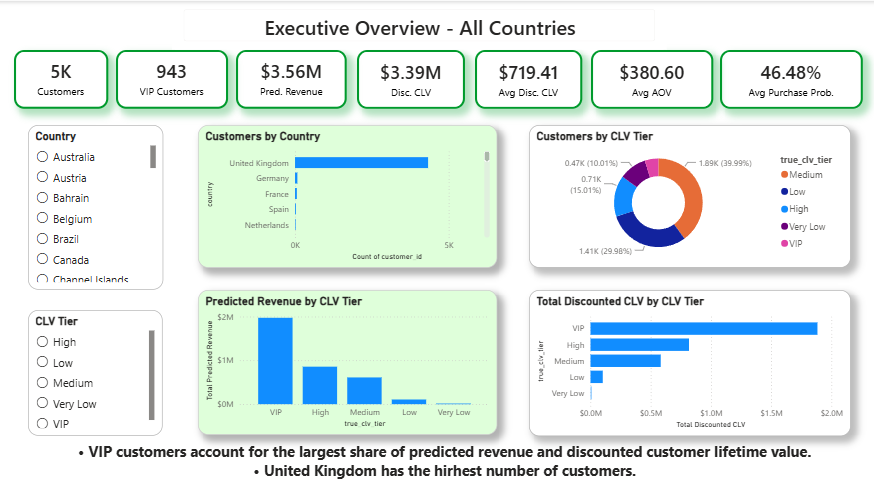

The page's visual inventory and layout, read from the dashboard file:
{"tool":"powerbi","page":{"name":"Executive_Overview","canvas":[1280,720],"ordinal":0},"visuals":[{"type":"cardVisual","fields":{"Data":["powerbi fact_customers.Total Discounted CLV"]},"box":[522.4,71.7,158,86.3],"z":0},{"type":"cardVisual","fields":{"Data":["powerbi fact_customers.Average Discounted CLV"]},"box":[695.1,71.7,156.6,86.3],"z":1000},{"type":"cardVisual","fields":{"Data":["powerbi fact_customers.Average Purchase Probability"]},"box":[1053.4,72.4,208.6,86.2],"z":2000},{"type":"cardVisual","fields":{"Data":["powerbi fact_customers.Average Predicted Order Value"]},"box":[864.9,71.7,178.5,86.3],"z":3000},{"type":"cardVisual","fields":{"Data":["powerbi fact_customers.Total Predicted Revenue"]},"box":[345.4,71.7,162.4,86.3],"z":4000},{"type":"cardVisual","fields":{"Data":["powerbi fact_customers.Total Customers"]},"box":[20.5,71.7,137.6,86.3],"z":5000},{"type":"textbox","box":[72.4,639.7,1141.4,81],"z":6000},{"type":"clusteredBarChart","title":"Total Discounted CLV by CLV Tier","fields":{"Y":["powerbi fact_customers.Total Discounted CLV"],"Category":["powerbi fact_customers.true_clv_tier"]},"box":[774.1,422.4,470.7,213.8],"z":7000},{"type":"clusteredBarChart","title":"Customers by Country","fields":{"Category":["powerbi fact_customers.country"],"Y":["CountNonNull(powerbi fact_customers.customer_id)"]},"box":[289.7,181,437.9,208.6],"z":8000},{"type":"lineClusteredColumnComboChart","title":"Predicted Revenue by CLV Tier","fields":{"Y":["powerbi fact_customers.Total Predicted Revenue"],"Category":["powerbi fact_customers.true_clv_tier"]},"box":[289.7,422.4,437.9,212.1],"z":9000},{"type":"donutChart","title":"Customers by CLV Tier","fields":{"Category":["powerbi fact_customers.true_clv_tier"],"Y":["CountNonNull(powerbi fact_customers.customer_id)"]},"box":[774.1,181,470.7,208.6],"z":10000},{"type":"listSlicer","title":"Country","fields":{"Values":["powerbi fact_customers.country"]},"box":[41.4,181,198.3,241.4],"z":11000},{"type":"listSlicer","title":"CLV Tier","fields":{"Values":["powerbi fact_customers.true_clv_tier"]},"box":[41.4,451.7,196.6,184.5],"z":12000},{"type":"cardVisual","fields":{"Data":["powerbi fact_customers.VIP Customers"]},"box":[169.8,71.7,163.9,86.3],"z":13000},{"type":"cardVisual","fields":{"Data":["Measures (2).Executive Overview Title"]},"box":[251.7,0,724.4,71],"z":14000}]}

Visuals, with their boxes in screenshot pixels (x1, y1, x2, y2), scaled from the page's 1280x720 canvas onto the 874x493 screenshot:
cardVisual - powerbi fact_customers.Total Discounted CLV: 357, 49, 465, 108
cardVisual - powerbi fact_customers.Average Discounted CLV: 475, 49, 582, 108
cardVisual - powerbi fact_customers.Average Purchase Probability: 719, 50, 862, 109
cardVisual - powerbi fact_customers.Average Predicted Order Value: 591, 49, 712, 108
cardVisual - powerbi fact_customers.Total Predicted Revenue: 236, 49, 347, 108
cardVisual - powerbi fact_customers.Total Customers: 14, 49, 108, 108
textbox: 49, 438, 829, 492
"Total Discounted CLV by CLV Tier" clusteredBarChart: 529, 289, 850, 436
"Customers by Country" clusteredBarChart: 198, 124, 497, 267
"Predicted Revenue by CLV Tier" lineClusteredColumnComboChart: 198, 289, 497, 434
"Customers by CLV Tier" donutChart: 529, 124, 850, 267
"Country" listSlicer: 28, 124, 164, 289
"CLV Tier" listSlicer: 28, 309, 163, 436
cardVisual - powerbi fact_customers.VIP Customers: 116, 49, 228, 108
cardVisual - Measures (2).Executive Overview Title: 172, 0, 666, 49
